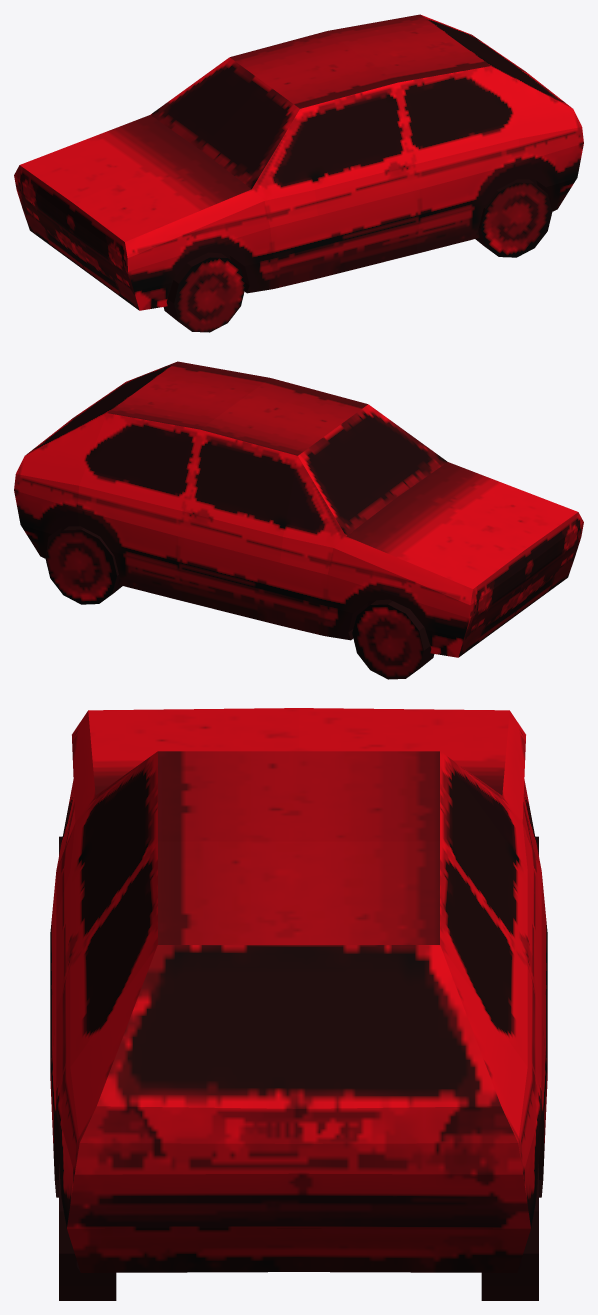
The model's file is golfik.glb.
3 views of the same model, one above another, from view 1: azimuth 30°, elevation 25°; view 2: azimuth 150°, elevation 25°; view 3: azimuth 270°, elevation 25° (orthographic). The views are drawn at different scales.
Parts seen in each view (by area): view 1: body, wheel front left, wheel back left; view 2: body, wheel front right, wheel back right; view 3: body, wheel back left, wheel back right.
Boxes of the visible parts, box(x1,y1,x2,y2) form: body: box(14, 14, 583, 310); wheel front left: box(163, 252, 245, 332); wheel back left: box(475, 179, 552, 257); body: box(14, 361, 583, 657); wheel front right: box(352, 599, 434, 679); wheel back right: box(45, 526, 122, 604); body: box(50, 708, 547, 1272); wheel back left: box(59, 1164, 116, 1300); wheel back right: box(481, 1164, 538, 1300).
Size of the model in its own units: 6.63 by 2.49 by 3.11.
1 material, 1 textured.
